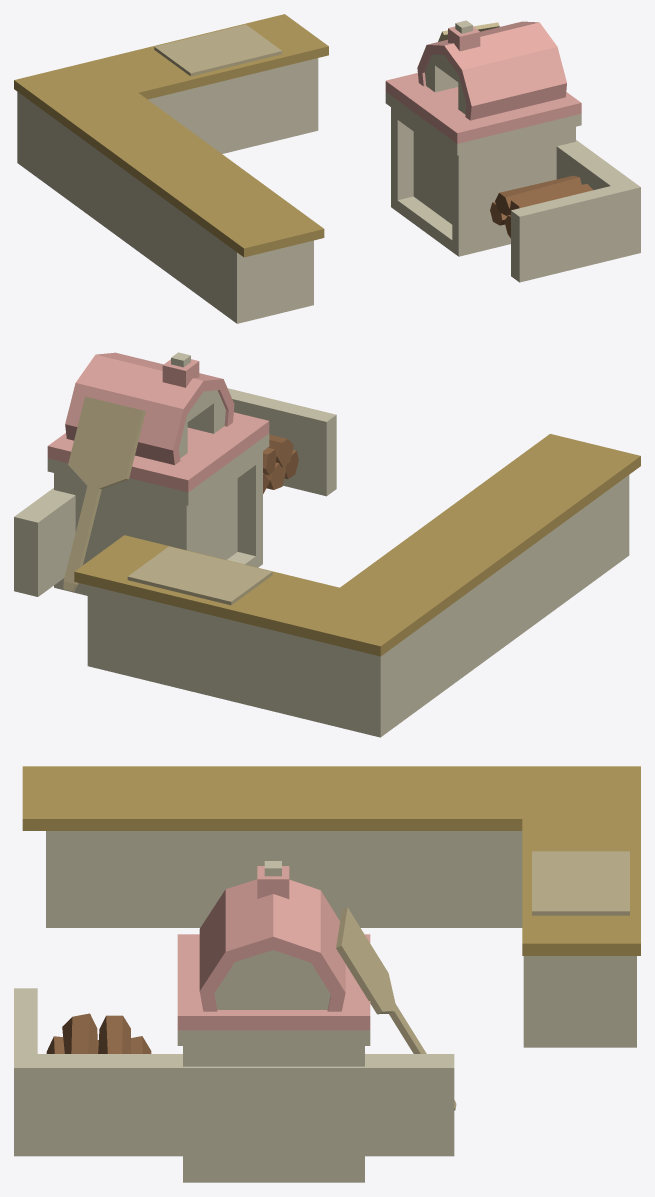
Rendered from Bakery.fbx.
The picture shows the model from 3 angles, top to bottom: view 1: azimuth 30°, elevation 25°; view 2: azimuth 150°, elevation 25°; view 3: azimuth 270°, elevation 25°; orthographic projection. The views are drawn at different scales.
Visible parts, largest first — view 1: Bakery; view 2: Bakery; view 3: Bakery.
Boxes of the visible parts, box(x1,y1,x2,y2) form: Bakery: box(14, 14, 640, 323); Bakery: box(14, 352, 640, 737); Bakery: box(14, 766, 640, 1182).
Size of the model in its own units: 5.41 by 2.6 by 5.53.
